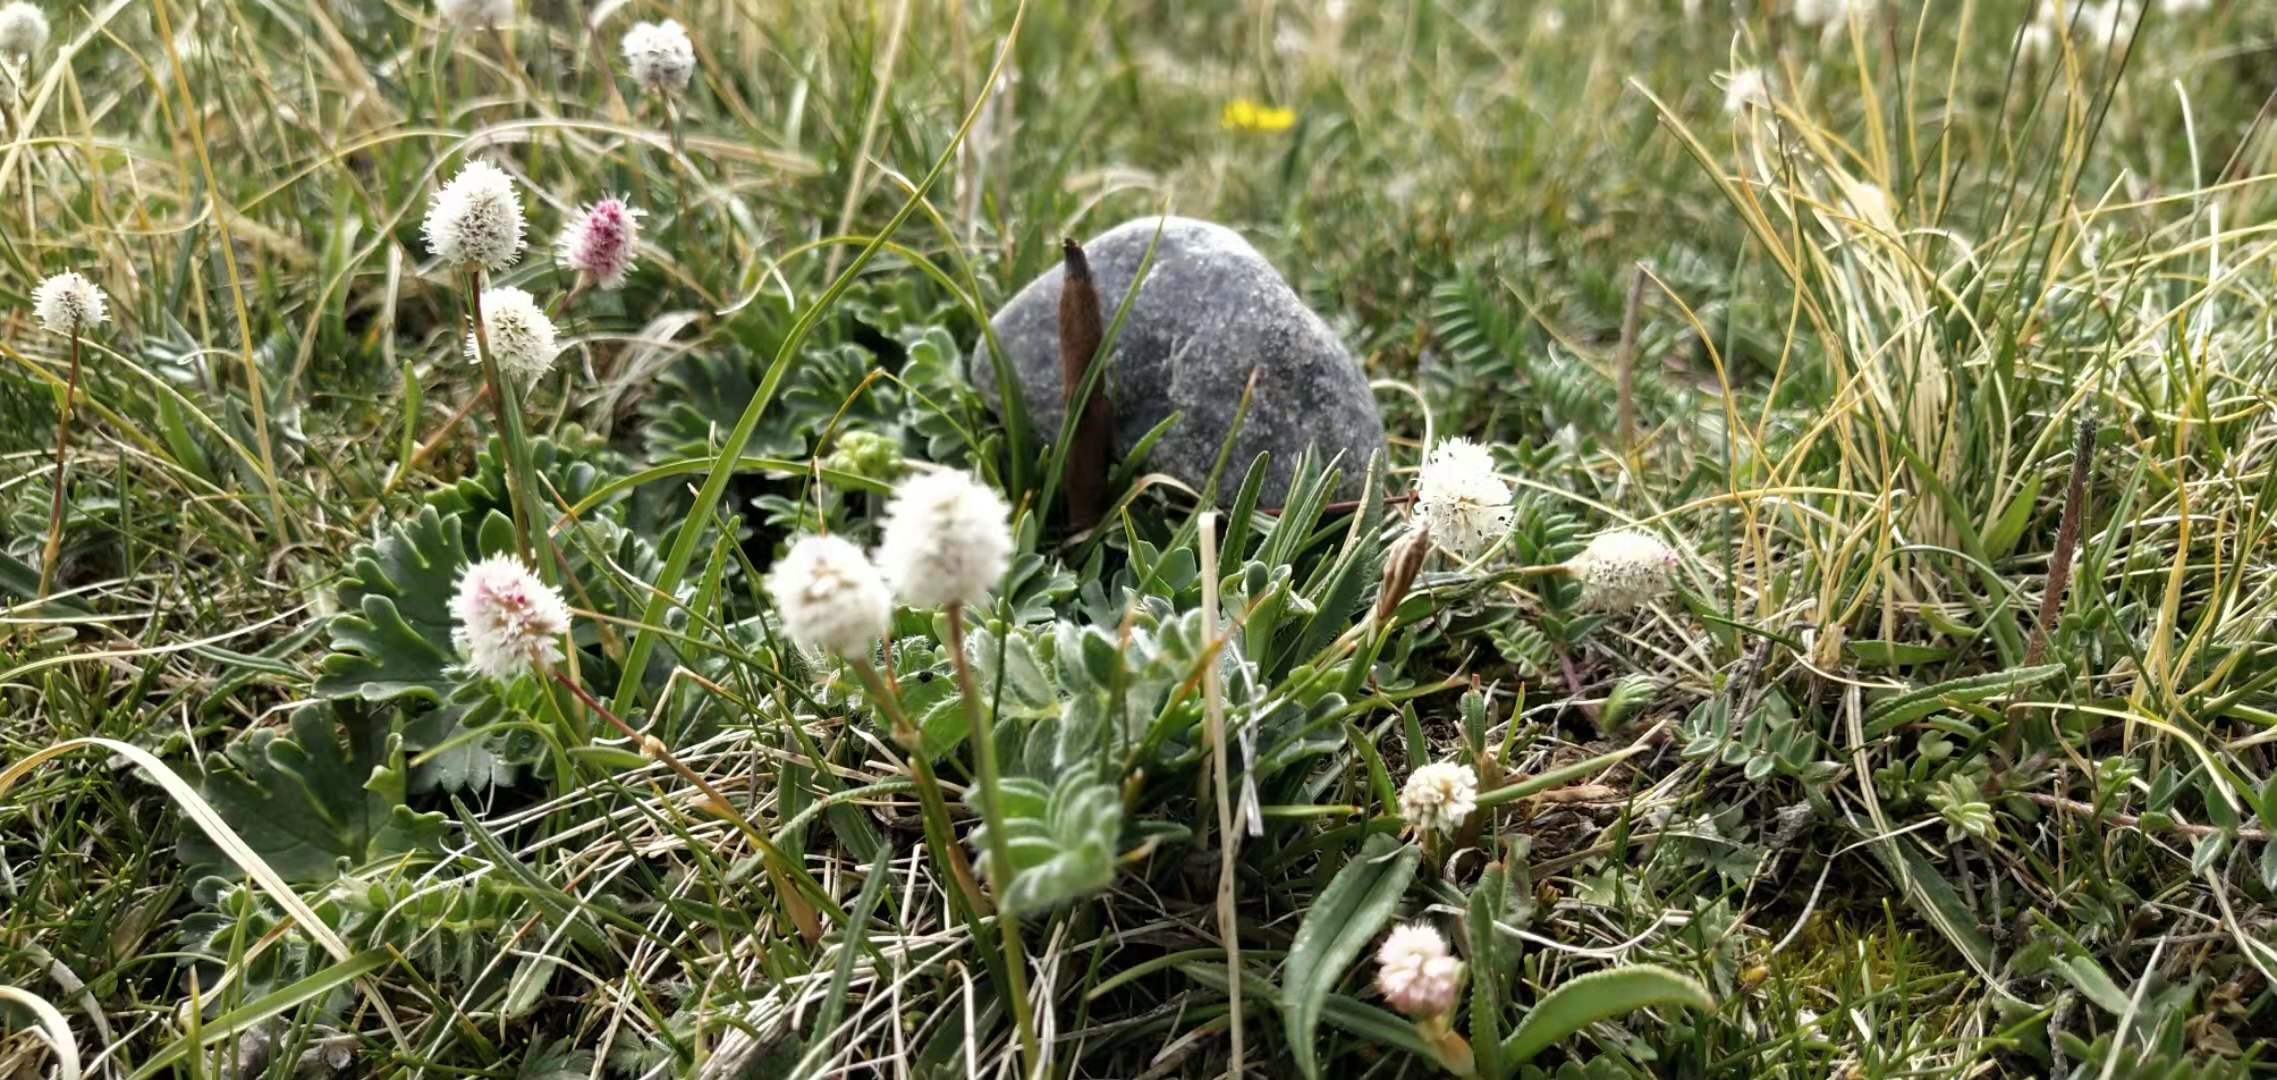Chongcao: (1059, 234, 1108, 531)
